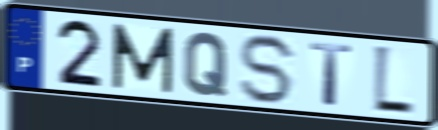2: (55, 18, 104, 90)
L: (371, 42, 417, 119)
M: (110, 21, 176, 95)
Q: (181, 30, 231, 99)
S: (237, 32, 300, 106)
T: (307, 41, 357, 109)
